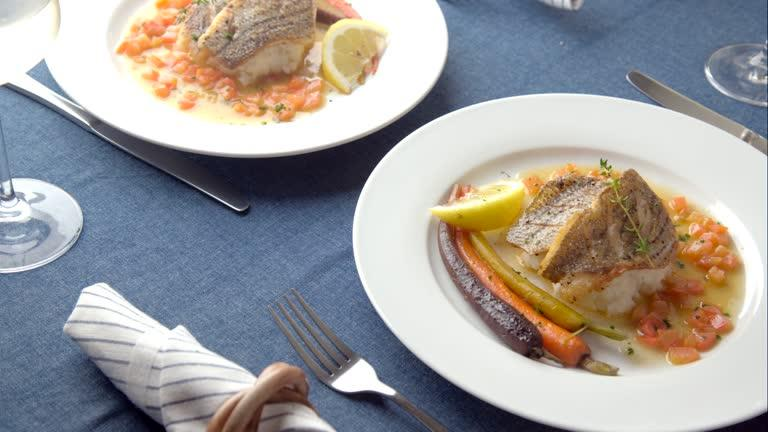Braised Crucian Carp: (354, 92, 767, 432), (53, 0, 439, 157)
